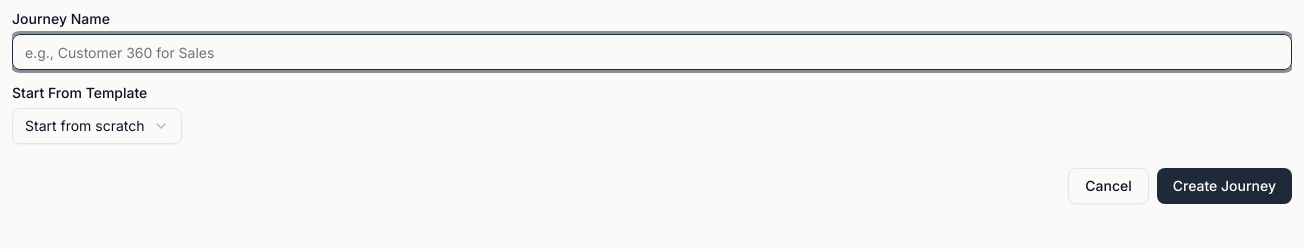
JourneyForm › shows error when submitting without name
What coordinates should you click on to do the following:
click the button "Create Journey"
I would click on:
 (1224, 186)
Its box is [1157, 168, 1292, 204].
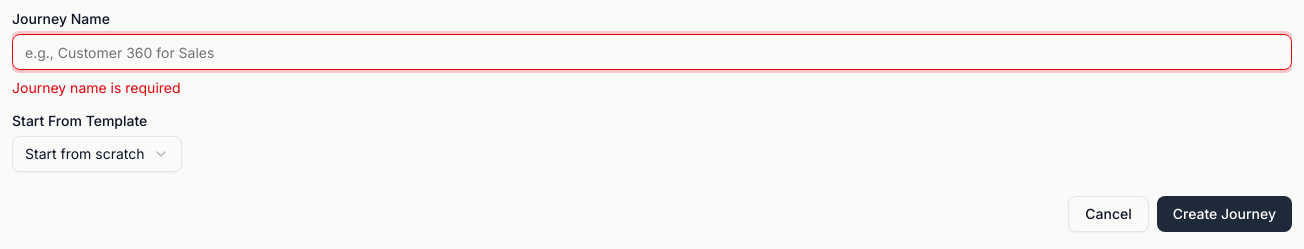
Now the text "Journey name is required" is shown, box [12, 79, 180, 96]
